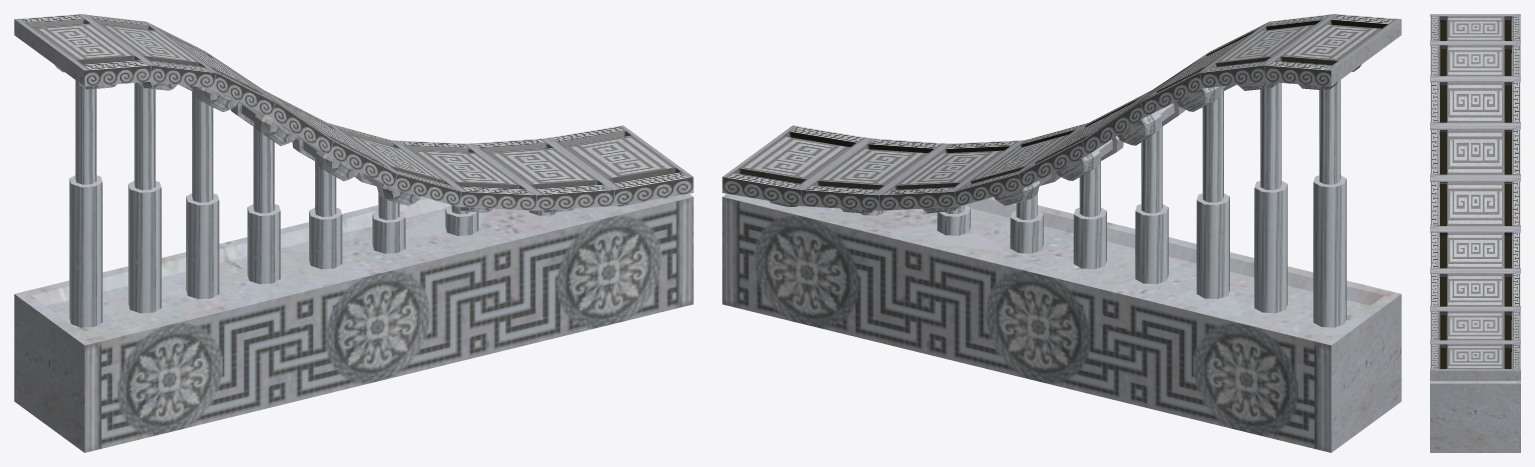
File: Ramp2.fbx
3 renders of one model, left to right at view 1: azimuth 30°, elevation 25°; view 2: azimuth 150°, elevation 25°; view 3: azimuth 270°, elevation 25°, orthographic. The views are drawn at different scales.
Visible parts, largest first — view 1: Ramp2_Set3; view 2: Ramp2_Set3; view 3: Ramp2_Set3.
Boxes of the visible parts, left/top/right/bottom form: Ramp2_Set3: left=14, top=14, right=693, bottom=452; Ramp2_Set3: left=722, top=14, right=1401, bottom=452; Ramp2_Set3: left=1430, top=14, right=1520, bottom=452.
Size of the model in its own units: 5 by 3 by 1.
